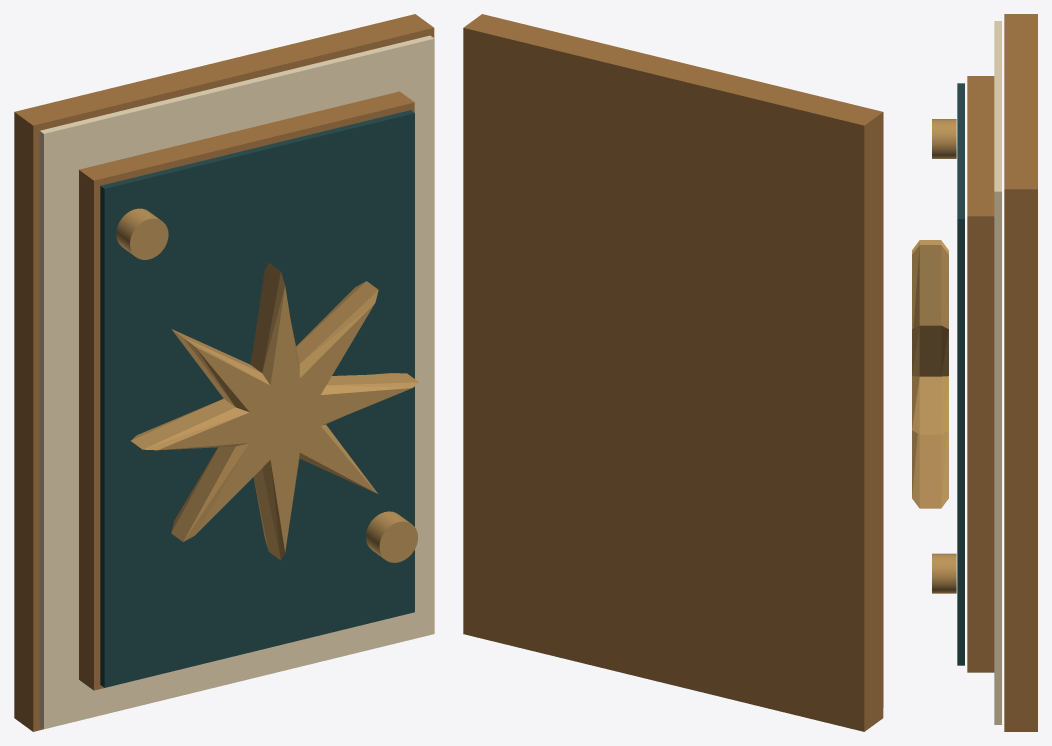
Rendered from game-card.glb.
3 renders of one model, left to right at view 1: azimuth 30°, elevation 25°; view 2: azimuth 150°, elevation 25°; view 3: azimuth 270°, elevation 25°, orthographic. The views are drawn at different scales.
Visible parts, largest first — view 1: inner-face, back-face, emblem, back-corrugation, inner-corrugation, corner-a, corner-b; view 2: back-corrugation; view 3: back-corrugation, inner-corrugation, emblem, back-face, inner-face, corner-b, corner-a.
Part boxes in pixels (x1,y1,x2,y2): inner-face: (100, 110, 414, 687); back-face: (39, 35, 434, 729); emblem: (131, 263, 418, 560); back-corrugation: (14, 14, 434, 731); inner-corrugation: (79, 91, 414, 690); corner-a: (116, 208, 168, 259); corner-b: (366, 511, 417, 562); back-corrugation: (463, 14, 883, 731); back-corrugation: (1004, 14, 1037, 731); inner-corrugation: (967, 76, 994, 672); emblem: (912, 240, 948, 508); back-face: (994, 21, 1001, 724); inner-face: (957, 83, 964, 665); corner-b: (932, 553, 956, 593); corner-a: (932, 119, 956, 158).
Bounding box in the file's own units: 1.35 × 1.95 × 0.41.
